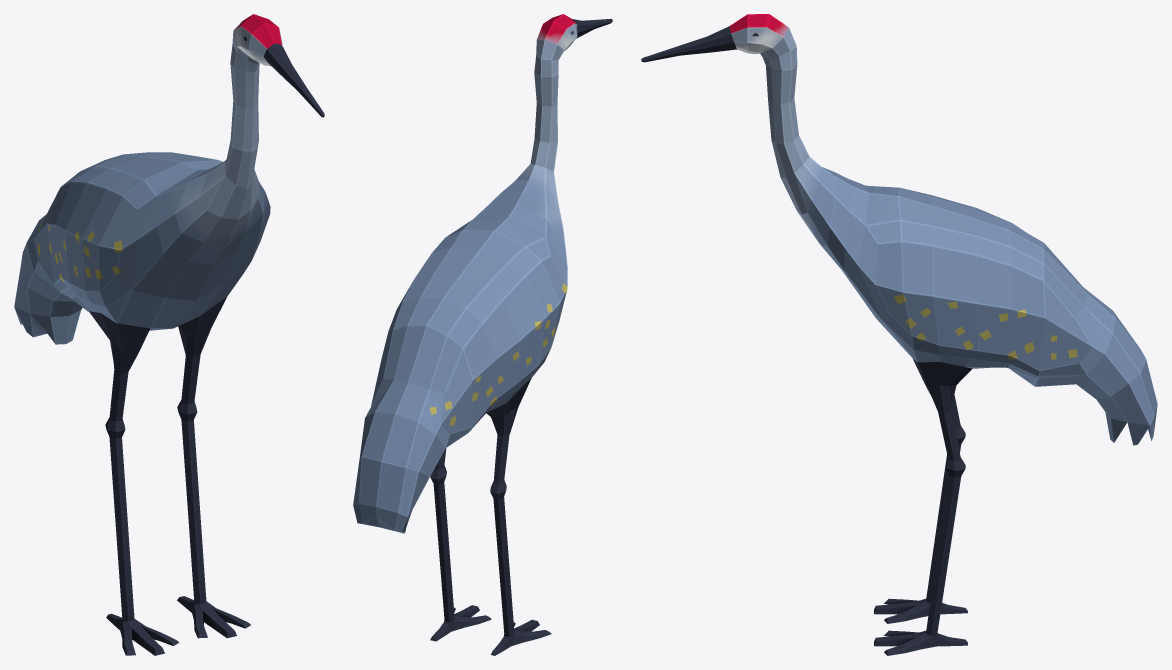
The model's file is bebf02ae-620f-4fd1-b2df-3162d2170326.glb.
3 views of the same model, side by side, from view 1: azimuth 30°, elevation 25°; view 2: azimuth 150°, elevation 25°; view 3: azimuth 270°, elevation 25° (orthographic). The views are drawn at different scales.
Visible parts, largest first — view 1: SandhillCrane_mesh; view 2: SandhillCrane_mesh; view 3: SandhillCrane_mesh.
Boxes of the visible parts, box(x1,y1,x2,y2) form: SandhillCrane_mesh: box(14, 14, 324, 655); SandhillCrane_mesh: box(353, 14, 612, 655); SandhillCrane_mesh: box(641, 14, 1157, 655).
Bounding box in the file's own units: 3.1 × 12.28 × 9.36.
1 material, 1 textured.
